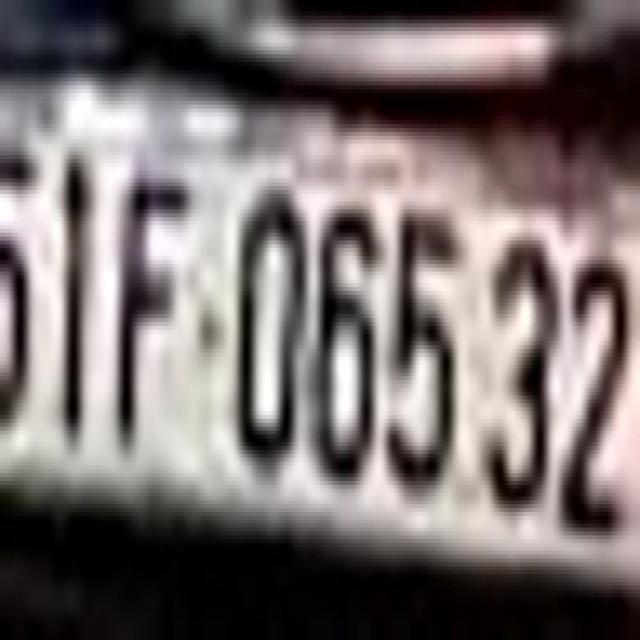0: (236, 116, 302, 492)
1: (50, 104, 96, 470)
2: (560, 170, 630, 566)
3: (486, 171, 554, 544)
5: (386, 147, 458, 512), (0, 93, 32, 454)
6: (311, 143, 381, 504)
F: (114, 112, 182, 462)
